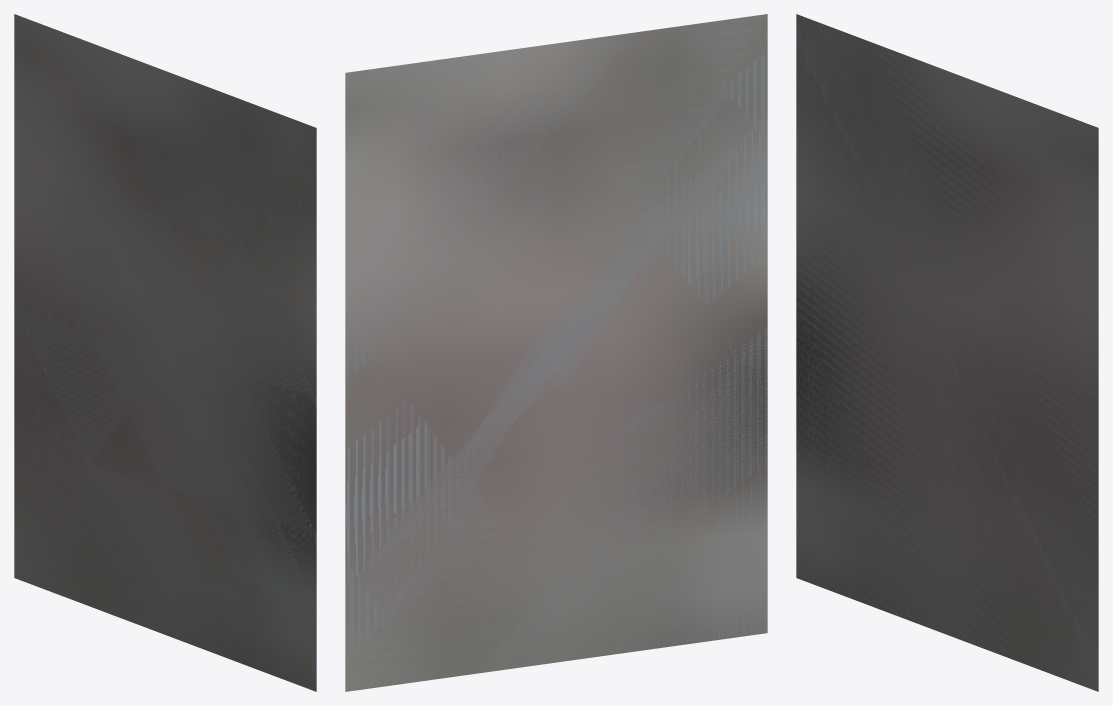
The model's file is 西庸城堡301.dae.
The picture shows the model from 3 angles, left to right: view 1: azimuth 90°, elevation 25°; view 2: azimuth 150°, elevation 25°; view 3: azimuth 270°, elevation 25°; orthographic projection. The views are drawn at different scales.
Parts seen in each view (by area): view 1: SketchUp; view 2: SketchUp; view 3: SketchUp.
Boxes of the visible parts, x1=… form: SketchUp: x1=14, y1=14, x2=316, y2=691; SketchUp: x1=345, y1=14, x2=767, y2=691; SketchUp: x1=796, y1=14, x2=1098, y2=691.
Size of the model in its own units: 13.64 by 15.29 by 31.5.
